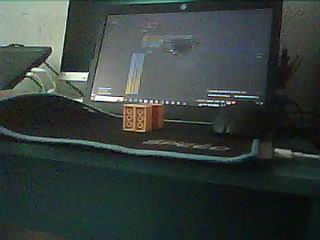lego: (122, 104, 164, 131)
